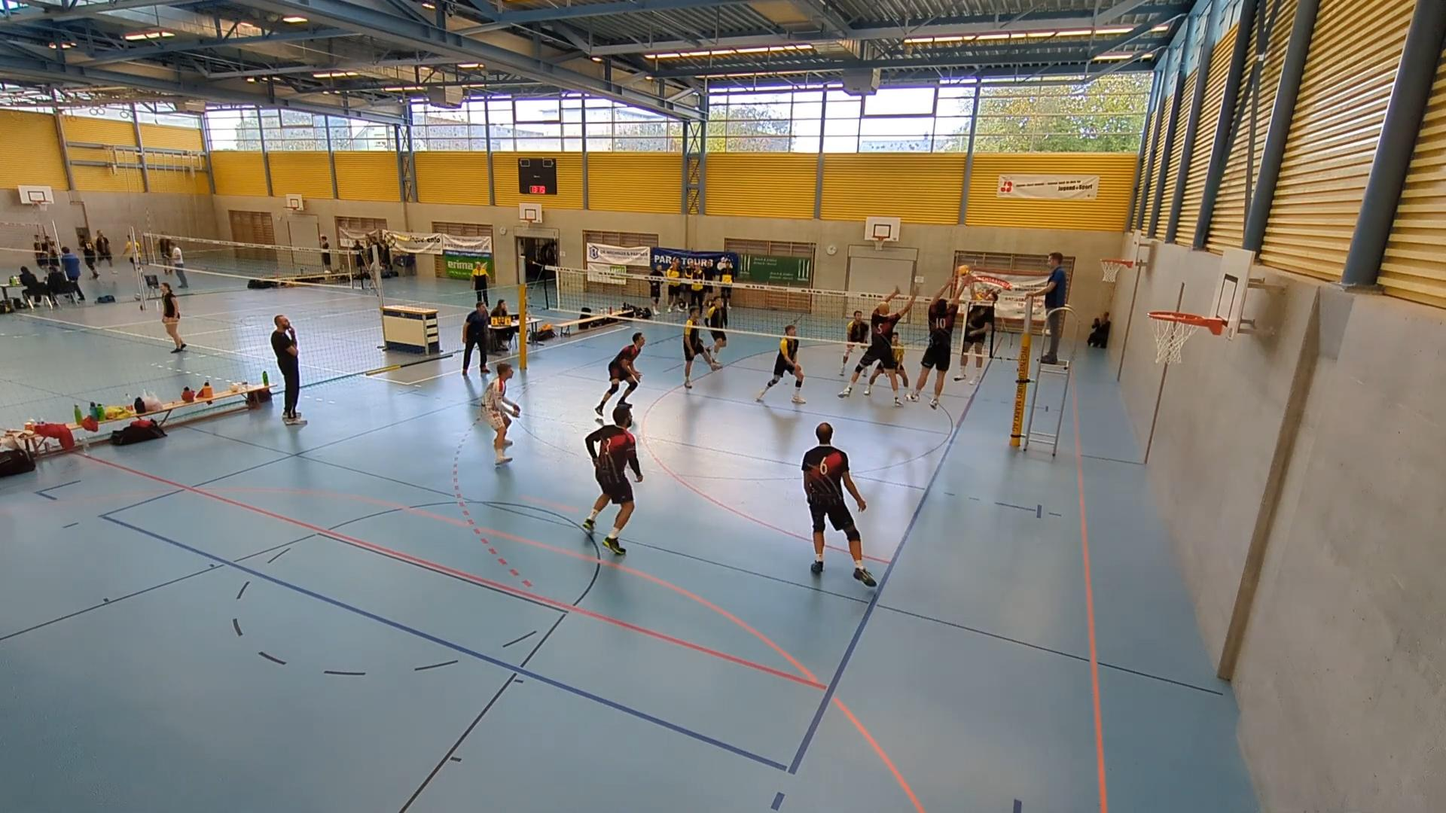Attack: (953, 267, 1001, 392)
Block: (838, 280, 923, 404), (904, 277, 970, 415)
Player: (802, 422, 876, 586), (582, 404, 642, 554), (595, 332, 645, 419), (481, 362, 520, 464), (756, 324, 805, 403), (682, 307, 720, 388), (839, 310, 868, 376), (705, 295, 727, 368), (891, 333, 909, 391)
ball: (955, 265, 974, 276)
